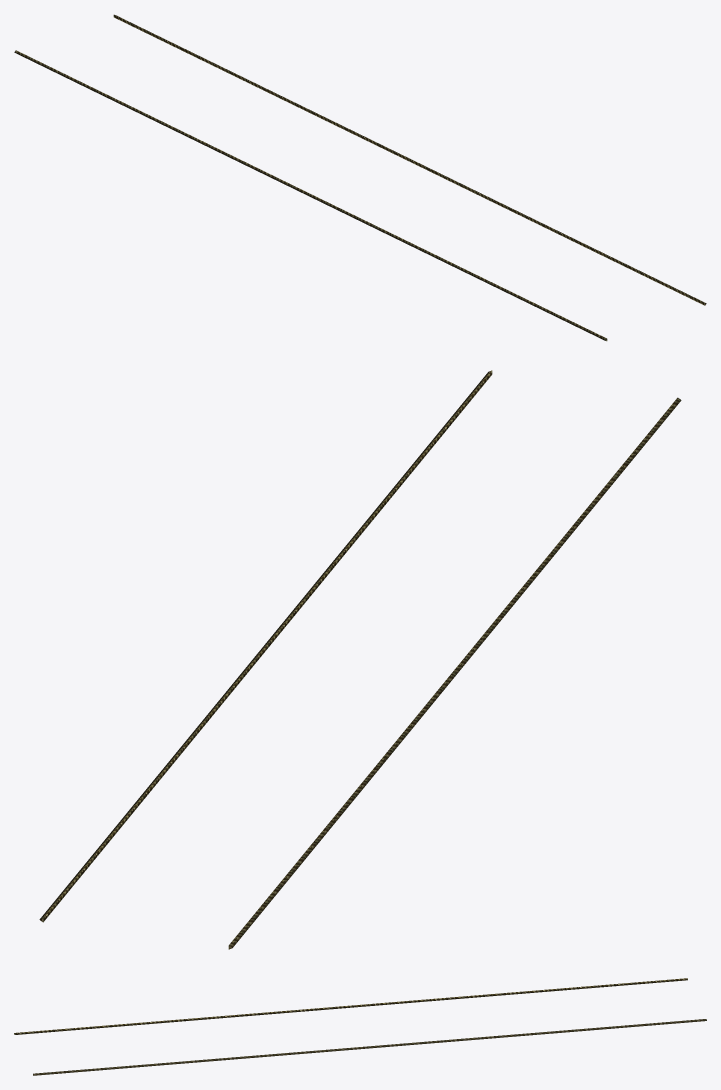
File: SWORDLIGHT20_ROPE6.fbx
3 renders of one model, top to bottom at view 1: azimuth 30°, elevation 25°; view 2: azimuth 150°, elevation 25°; view 3: azimuth 270°, elevation 25°, orthographic. The views are drawn at different scales.
Visible parts, largest first — view 1: SWORDLIGHT20_ROPE6; view 2: SWORDLIGHT20_ROPE6; view 3: SWORDLIGHT20_ROPE6.
Part boxes in pixels (x1,y1,x2,y2): SWORDLIGHT20_ROPE6: [14, 14, 706, 341]; SWORDLIGHT20_ROPE6: [39, 370, 681, 949]; SWORDLIGHT20_ROPE6: [14, 978, 706, 1075].
Size of the model in its own units: 60397 by 633 by 181828.
1 material, 1 textured.
